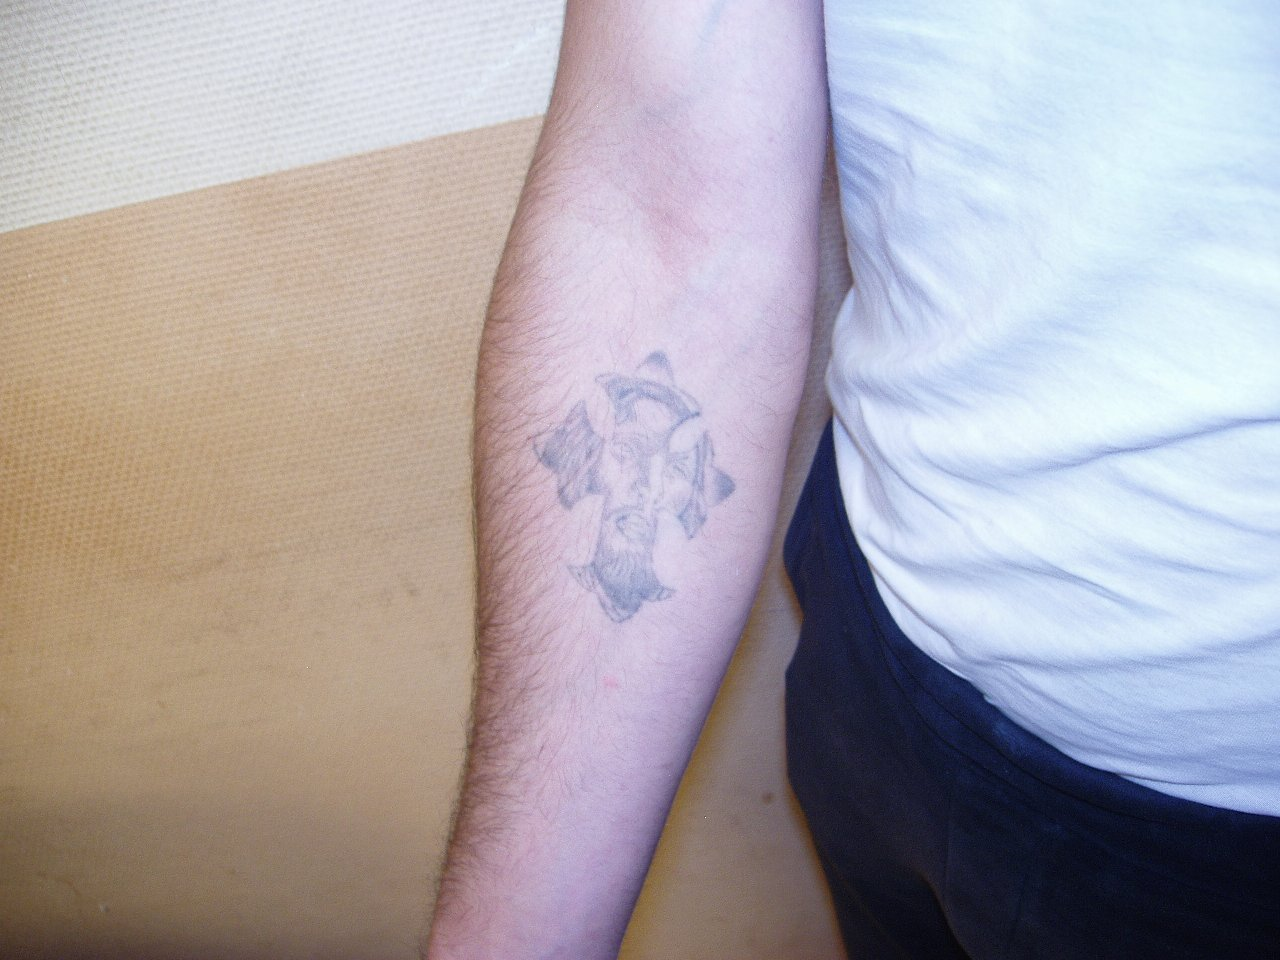tatu9_krest: (520, 348, 749, 630)
